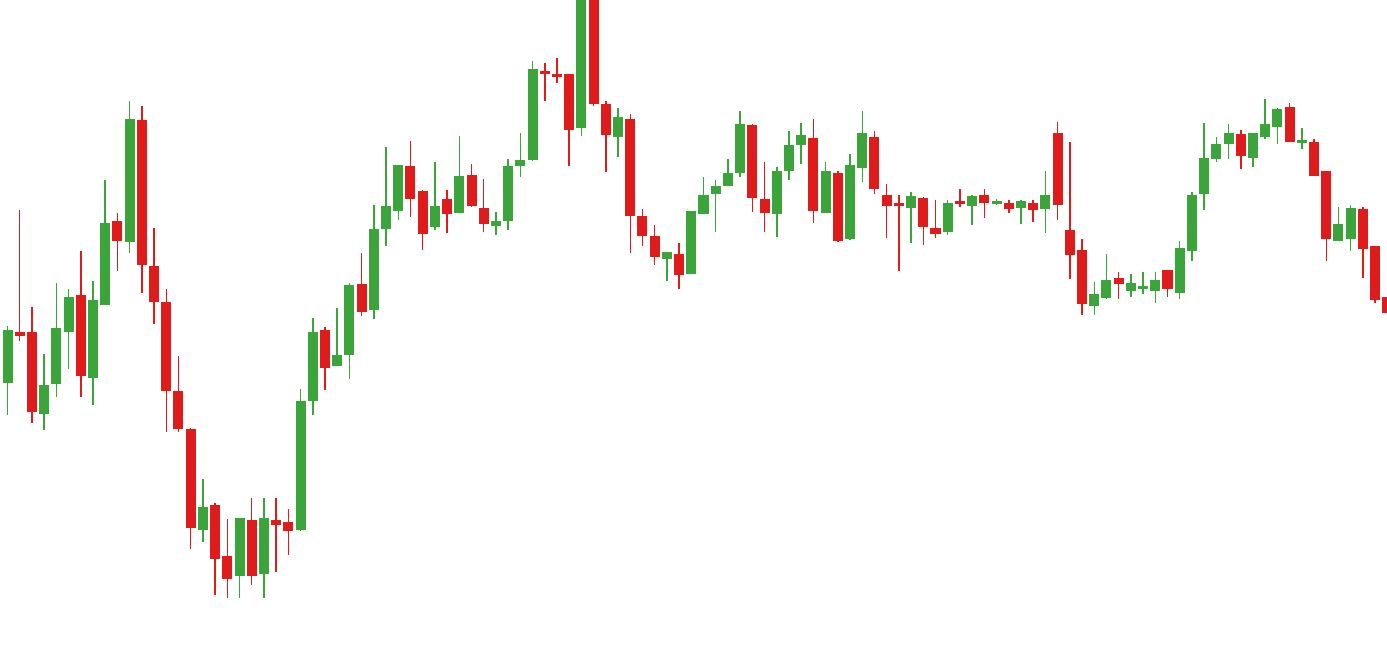sell: (798, 110, 881, 214)
